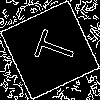T: (25, 25, 78, 69)
